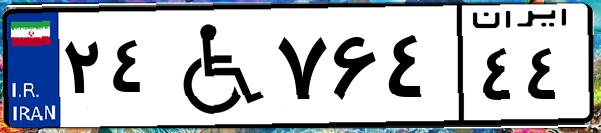2: (57, 26, 110, 100)
4: (385, 28, 445, 110), (475, 38, 525, 113), (525, 38, 570, 115), (110, 28, 158, 98)
6: (330, 28, 385, 110)
7: (270, 28, 330, 110)
ژ (معلولین و جانبازان): (158, 12, 270, 120)
